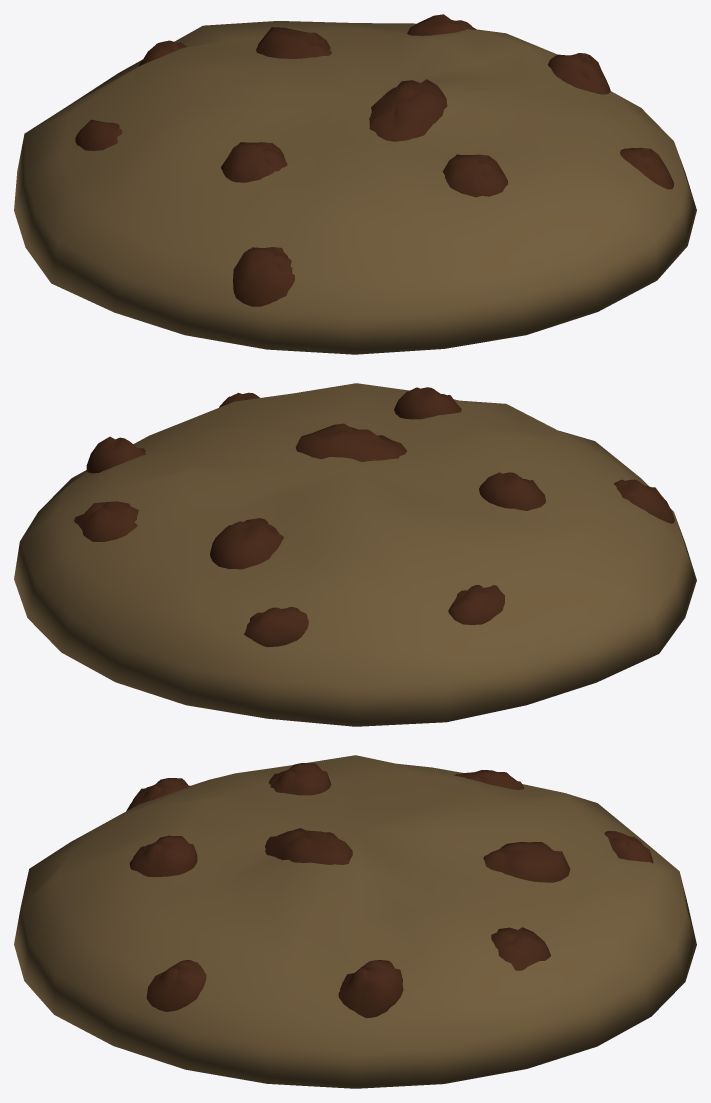
The model's file is Cookie.fbx.
3 views of the same model, one above another, from view 1: azimuth 30°, elevation 25°; view 2: azimuth 150°, elevation 25°; view 3: azimuth 270°, elevation 25° (orthographic).
Visible parts, largest first — view 1: Sphere.008; view 2: Sphere.008; view 3: Sphere.008.
Part boxes in pixels (x1=…): Sphere.008: x1=14, y1=14, x2=696, y2=354; Sphere.008: x1=14, y1=383, x2=696, y2=726; Sphere.008: x1=14, y1=755, x2=696, y2=1088.
Bounding box in the file's own units: 23.46 × 4.77 × 23.15.
